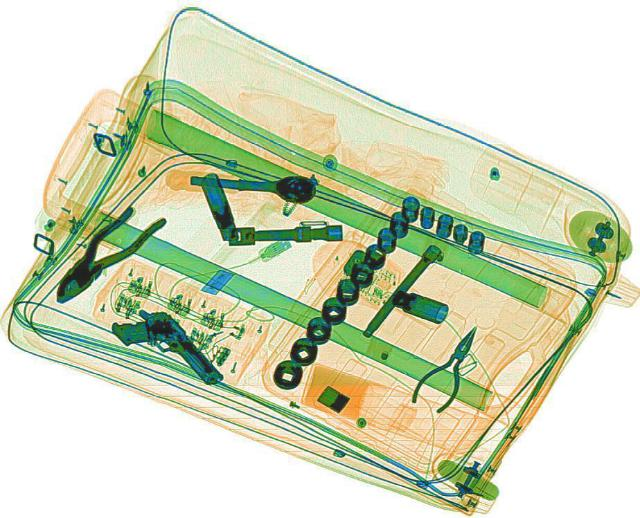Gun: (106, 298, 227, 401)
Pliers: (36, 197, 168, 311), (402, 318, 493, 413)
